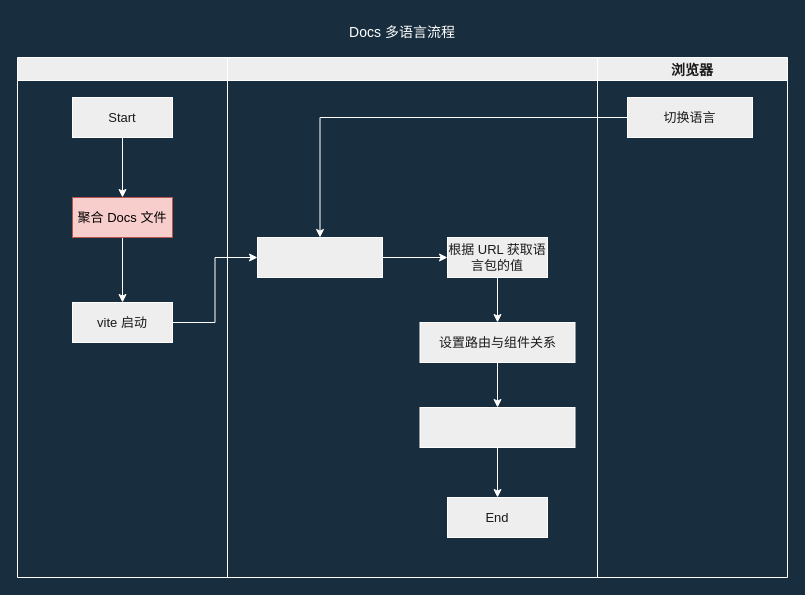
Image size: 805x595. Some labels were removed from this diagram. Each missing label, with the box of its shape:
APP: (226, 56, 598, 578)
NPM Scripts: (16, 56, 228, 578)
渲染组件: (419, 406, 575, 448)
监听 popstate 事件: (256, 236, 382, 278)
